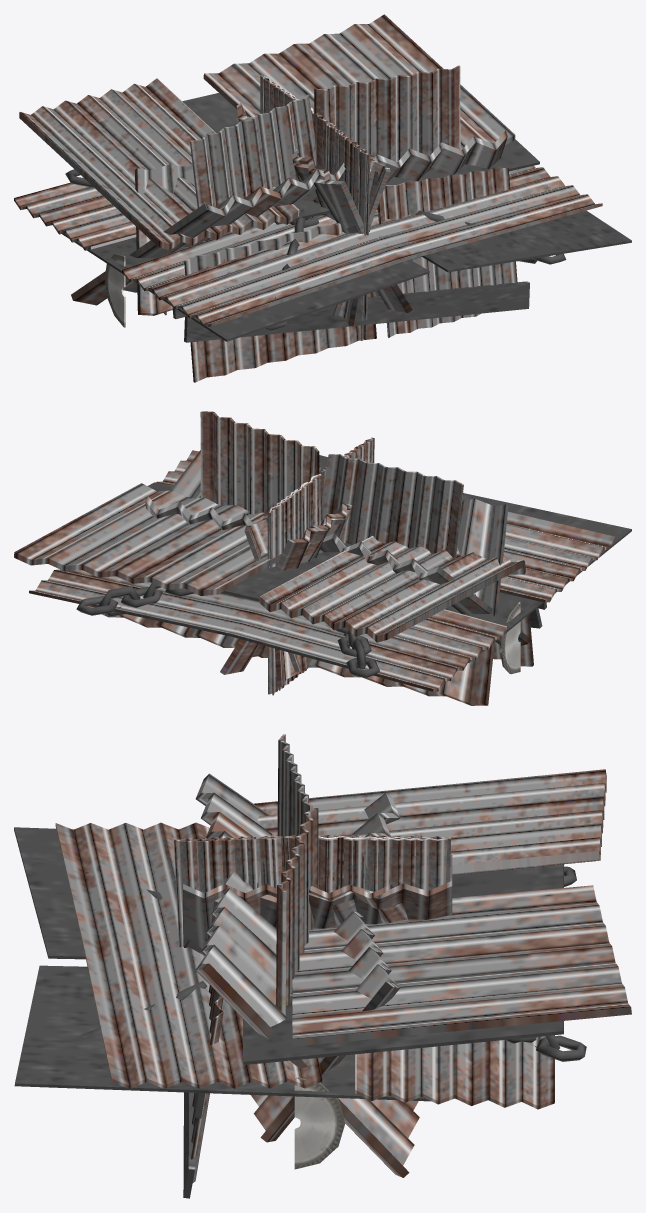
File: Vehicles_CarNormal_Scrap.fbx
The picture shows the model from 3 angles, top to bottom: view 1: azimuth 30°, elevation 25°; view 2: azimuth 150°, elevation 25°; view 3: azimuth 270°, elevation 25°; orthographic projection. The views are drawn at different scales.
Visible parts, largest first — view 1: normal_scrap_trunk_armor, normal_scrap_hood_armor, normal_scrap_bullbar_armor, normal_scrap_windshield_armor, normal_scrap_front_left_door_armor, normal_scrap_rear_windshield_armor, normal_scrap_front_right_window_armor, normal_scrap_rear_right_window_armor, normal_scrap_chain_roof_rack, normal_scrap_rear_left_door_armor, normal_scrap_front_right_door_armor, normal_scrap_front_left_window_armor (+1 smaller); view 2: normal_scrap_trunk_armor, normal_scrap_hood_armor, normal_scrap_bullbar_armor, normal_scrap_windshield_armor, normal_scrap_rear_windshield_armor, normal_scrap_chain_roof_rack, normal_scrap_front_left_door_armor, normal_scrap_front_right_window_armor, normal_scrap_rear_right_window_armor, normal_scrap_rear_left_door_armor, normal_scrap_front_right_door_armor, normal_scrap_rear_left_window_armor (+2 smaller); view 3: normal_scrap_trunk_armor, normal_scrap_hood_armor, normal_scrap_windshield_armor, normal_scrap_bullbar_armor, normal_scrap_front_right_door_armor, normal_scrap_rear_windshield_armor, normal_scrap_rear_right_door_armor, normal_scrap_rear_left_window_armor, normal_scrap_front_left_window_armor, normal_scrap_chain_roof_rack, normal_scrap_front_left_door_armor, normal_scrap_rear_left_door_armor.
Part boxes in pixels (bbox=[...]): normal_scrap_trunk_armor: bbox=[19, 14, 539, 382]; normal_scrap_hood_armor: bbox=[14, 165, 631, 341]; normal_scrap_bullbar_armor: bbox=[104, 65, 460, 327]; normal_scrap_windshield_armor: bbox=[71, 130, 507, 305]; normal_scrap_front_left_door_armor: bbox=[262, 75, 370, 339]; normal_scrap_rear_windshield_armor: bbox=[135, 164, 194, 315]; normal_scrap_front_right_window_armor: bbox=[292, 149, 380, 296]; normal_scrap_rear_right_window_armor: bbox=[236, 103, 412, 312]; normal_scrap_chain_roof_rack: bbox=[65, 169, 566, 330]; normal_scrap_rear_left_door_armor: bbox=[269, 80, 362, 204]; normal_scrap_front_right_door_armor: bbox=[260, 75, 368, 340]; normal_scrap_front_left_window_armor: bbox=[333, 153, 390, 316]; normal_scrap_trunk_armor: bbox=[14, 482, 546, 666]; normal_scrap_hood_armor: bbox=[29, 450, 631, 691]; normal_scrap_bullbar_armor: bbox=[200, 411, 520, 674]; normal_scrap_windshield_armor: bbox=[87, 450, 508, 705]; normal_scrap_rear_windshield_armor: bbox=[145, 496, 530, 645]; normal_scrap_chain_roof_rack: bbox=[76, 528, 531, 678]; normal_scrap_front_left_door_armor: bbox=[267, 437, 372, 694]; normal_scrap_front_right_window_armor: bbox=[220, 503, 352, 674]; normal_scrap_rear_right_window_armor: bbox=[252, 508, 351, 657]; normal_scrap_rear_left_door_armor: bbox=[275, 444, 365, 674]; normal_scrap_front_right_door_armor: bbox=[269, 438, 374, 695]; normal_scrap_rear_left_window_armor: bbox=[244, 514, 300, 671]; normal_scrap_trunk_armor: bbox=[183, 769, 631, 1198]; normal_scrap_hood_armor: bbox=[14, 822, 554, 1109]; normal_scrap_windshield_armor: bbox=[195, 773, 419, 1177]; normal_scrap_bullbar_armor: bbox=[276, 734, 345, 1169]; normal_scrap_front_right_door_armor: bbox=[174, 836, 450, 915]; normal_scrap_rear_windshield_armor: bbox=[251, 793, 399, 1142]; normal_scrap_rear_right_door_armor: bbox=[196, 836, 432, 892]; normal_scrap_rear_left_window_armor: bbox=[184, 881, 452, 955]; normal_scrap_front_left_window_armor: bbox=[183, 884, 407, 948]; normal_scrap_chain_roof_rack: bbox=[80, 866, 586, 1061]; normal_scrap_front_left_door_armor: bbox=[174, 834, 450, 947]; normal_scrap_rear_left_door_armor: bbox=[194, 834, 431, 889].
Bounding box in the file's own units: 0.8278 × 0.418 × 0.8132.
